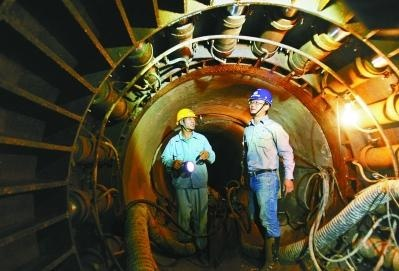blue: (246, 86, 274, 118)
yellow: (174, 105, 198, 133)
